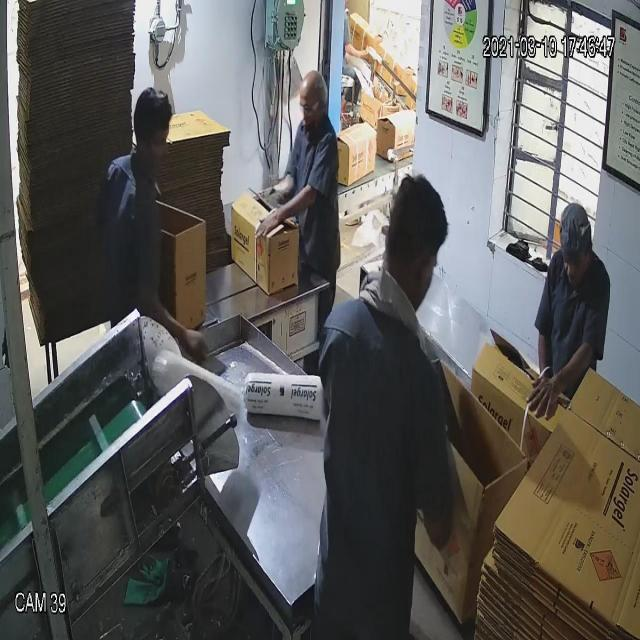No_Gloves: (76, 70, 564, 384)
